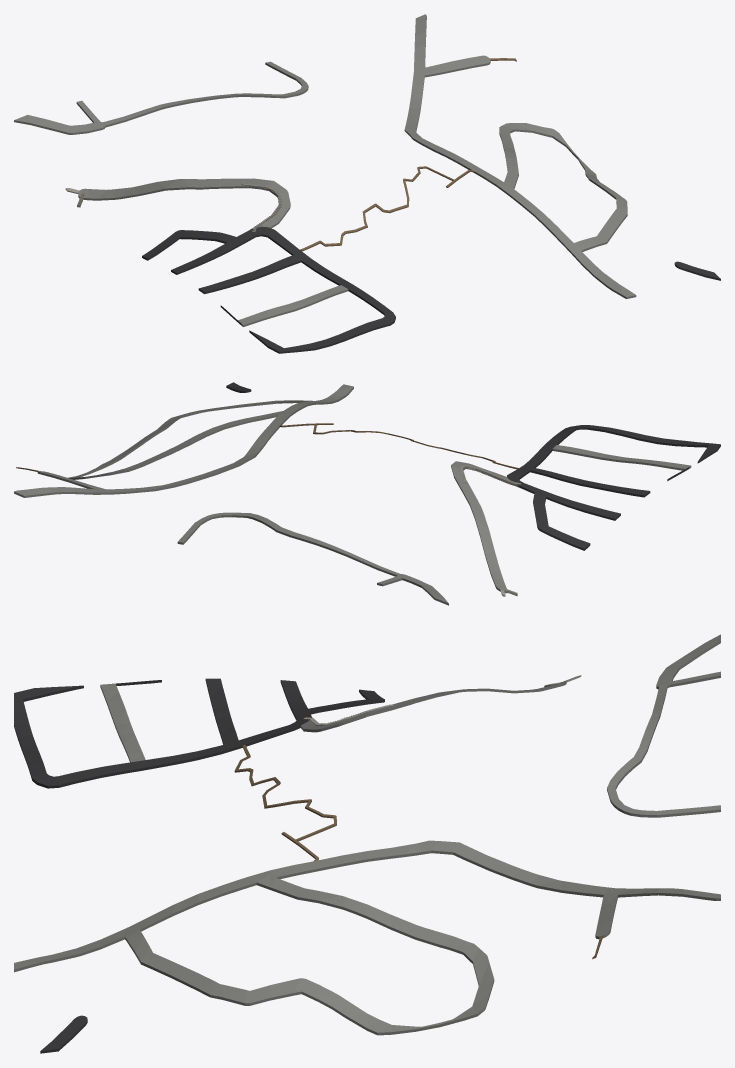
3 renders of one model, top to bottom at view 1: azimuth 30°, elevation 25°; view 2: azimuth 150°, elevation 25°; view 3: azimuth 270°, elevation 25°, orthographic. The views are drawn at different scales.
Bounding box in the file's own units: 294 × 57.49 × 292.
